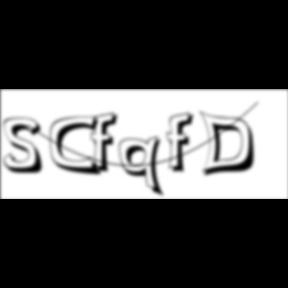C: (50, 115, 106, 178)
D: (198, 110, 262, 180)
S: (4, 117, 50, 176)
f: (90, 111, 124, 175), (166, 111, 199, 175)
q: (119, 135, 168, 200)
